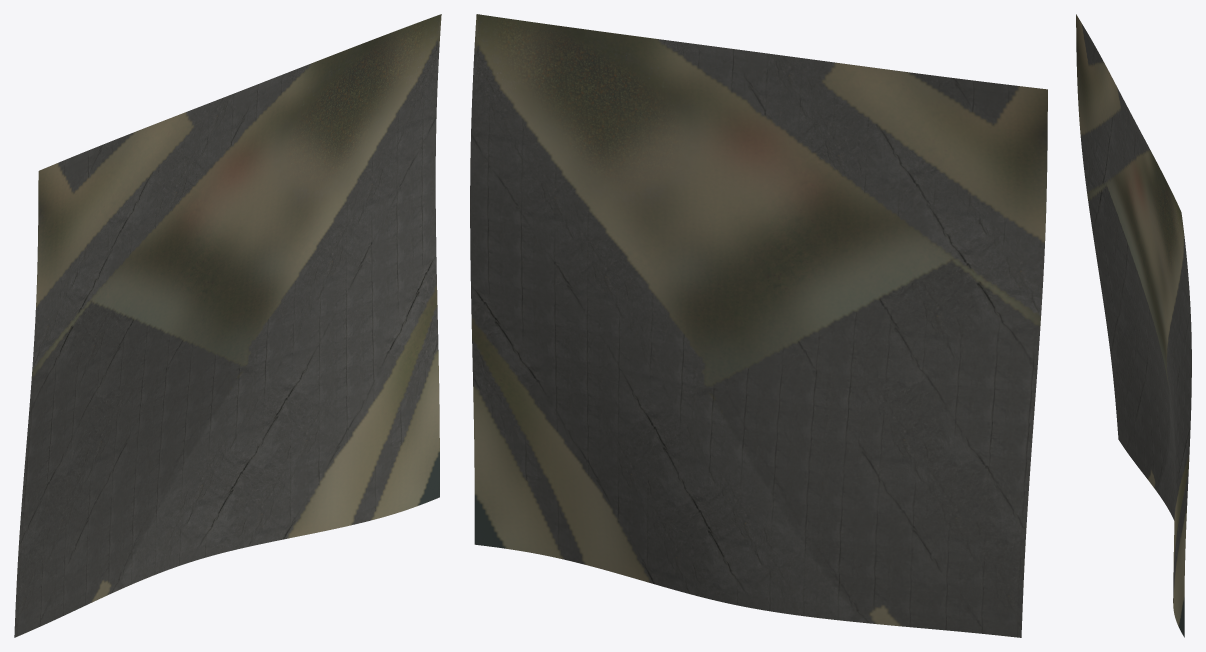
The model's file is ground_core_07_03.obj.
3 renders of one model, left to right at view 1: azimuth 30°, elevation 25°; view 2: azimuth 150°, elevation 25°; view 3: azimuth 270°, elevation 25°, orthographic. The views are drawn at different scales.
Visible parts, largest first — view 1: ground_core_07_03; view 2: ground_core_07_03; view 3: ground_core_07_03.
Boxes of the visible parts, x1,y1,x2,y2 form: ground_core_07_03: (14,14,441,637); ground_core_07_03: (470,14,1047,637); ground_core_07_03: (1076,14,1191,637).
Size of the model in its own units: 50 by 50 by 12.33.
Materials: 1 (1 with a texture image).
